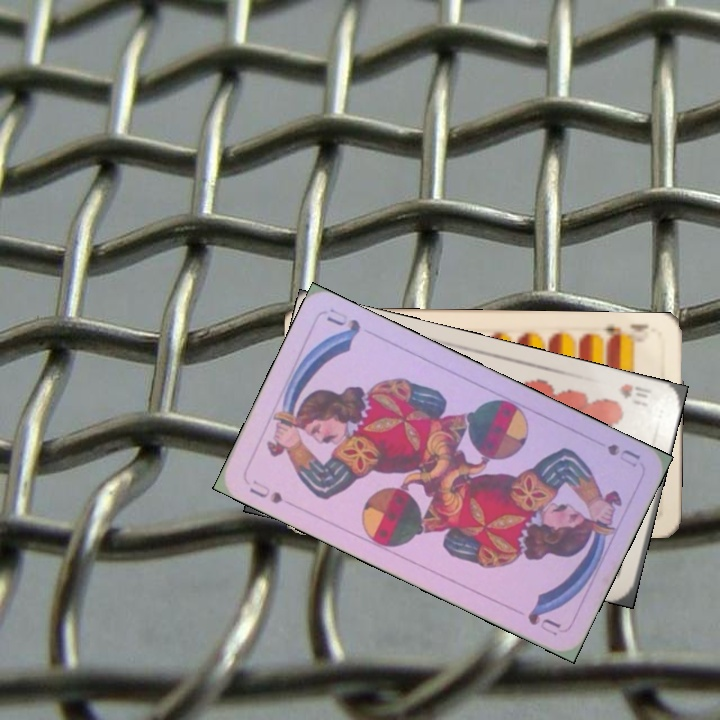E10: (599, 322, 625, 346)
H10: (615, 379, 655, 409)
SU: (245, 476, 286, 506), (603, 440, 643, 470)
